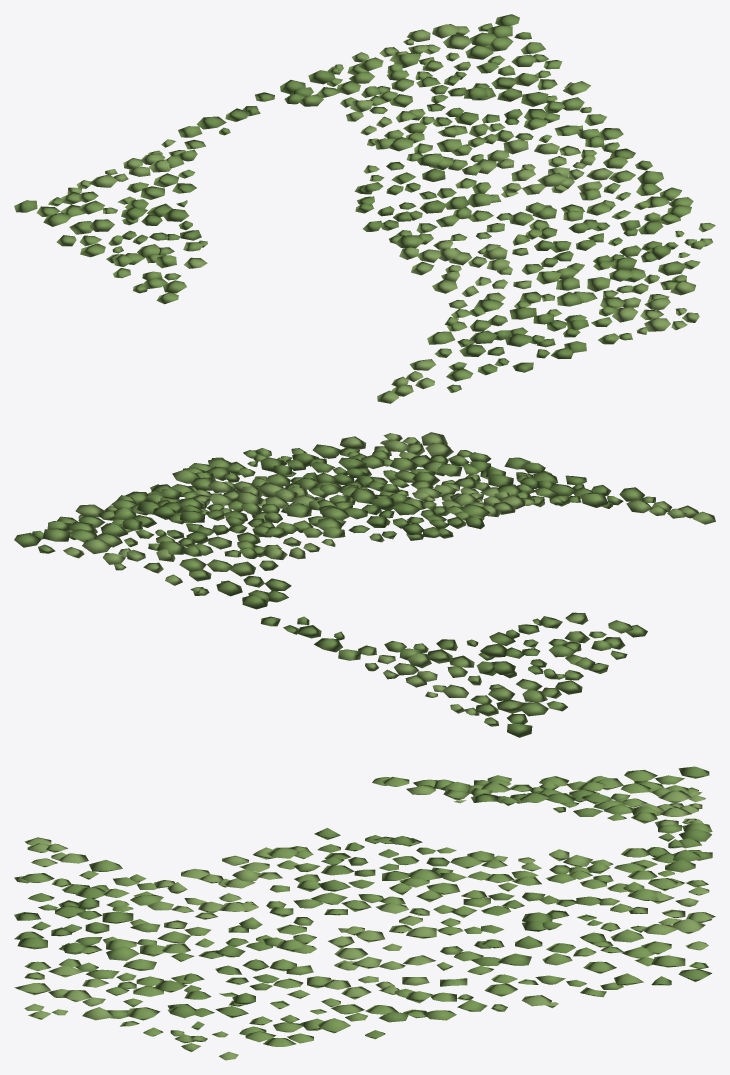
The model's file is canopy-1--3-0.glb.
3 renders of one model, top to bottom at view 1: azimuth 30°, elevation 25°; view 2: azimuth 150°, elevation 25°; view 3: azimuth 270°, elevation 25°, orthographic. The views are drawn at different scales.
Bounding box in the file's own units: 520 × 97.5 × 515.
1 material, 1 textured.
